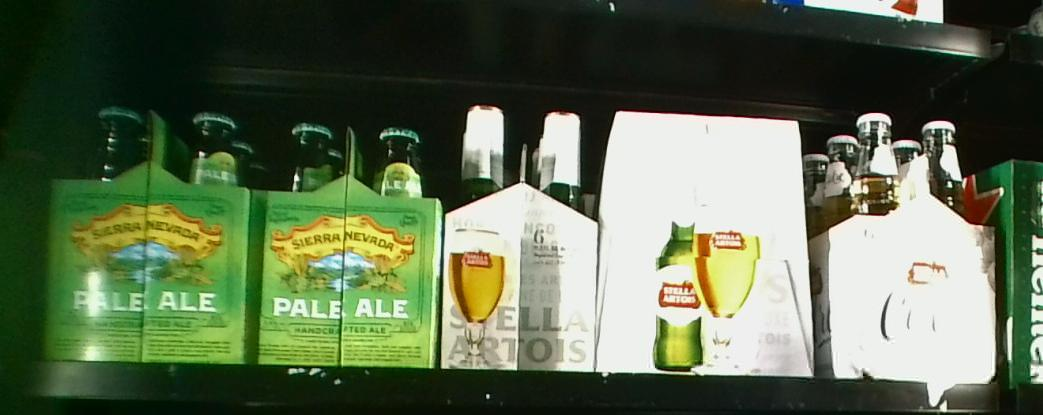bottle: (604, 108, 816, 376), (44, 105, 253, 370), (253, 106, 440, 356), (830, 112, 997, 384), (439, 106, 600, 367)
